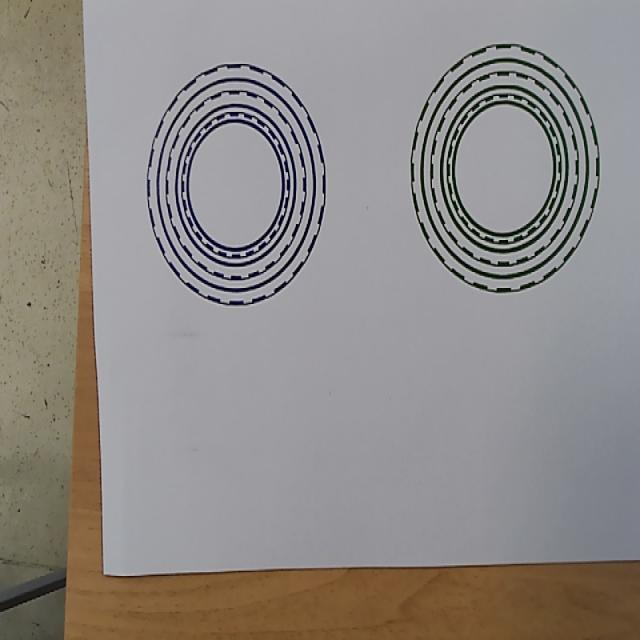b: (146, 63, 326, 306)
